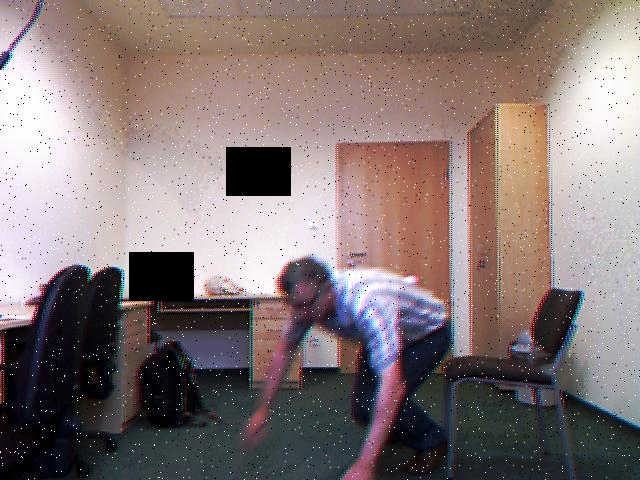near-fall: (242, 244, 462, 480)
